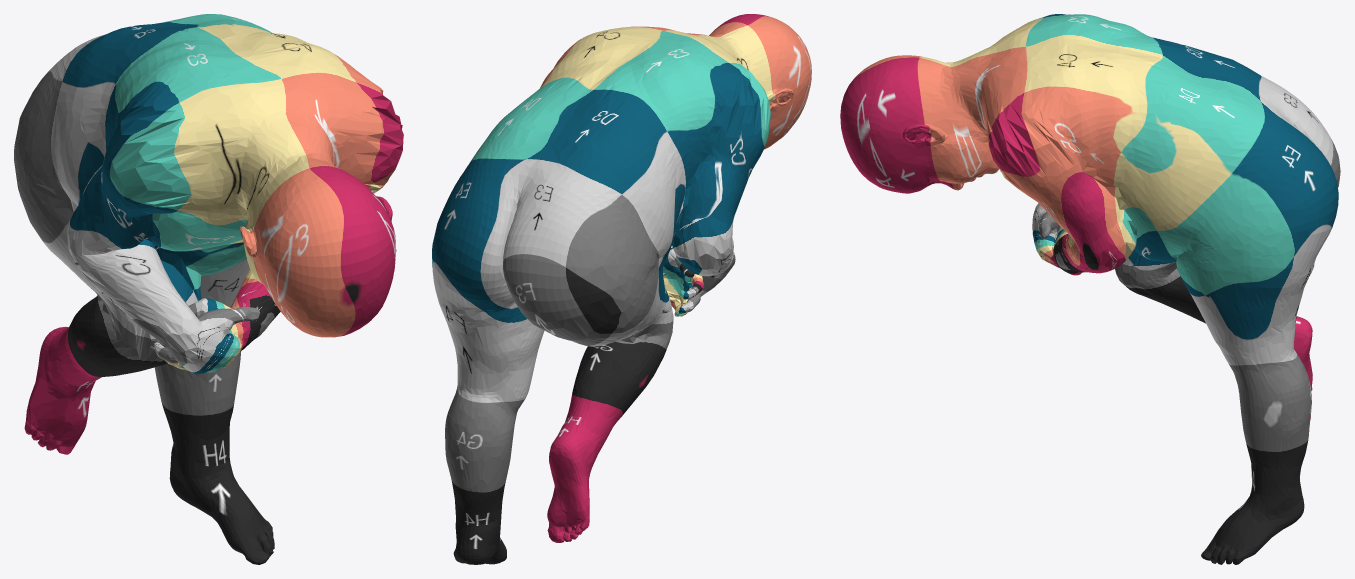
Rendered from kid00-kid13.obj.
3 renders of one model, left to right at view 1: azimuth 30°, elevation 25°; view 2: azimuth 150°, elevation 25°; view 3: azimuth 270°, elevation 25°, orthographic. The views are drawn at different scales.
Parts seen in each view (by area): view 1: kid00-kid13_export; view 2: kid00-kid13_export; view 3: kid00-kid13_export.
Part boxes in pixels (left/top/right/bottom): kid00-kid13_export: left=14, top=14, right=403, bottom=564; kid00-kid13_export: left=432, top=14, right=811, bottom=564; kid00-kid13_export: left=840, top=14, right=1340, bottom=564.
Size of the model in its own units: 0.3632 by 0.7554 by 0.7074.
1 material, 1 textured.
